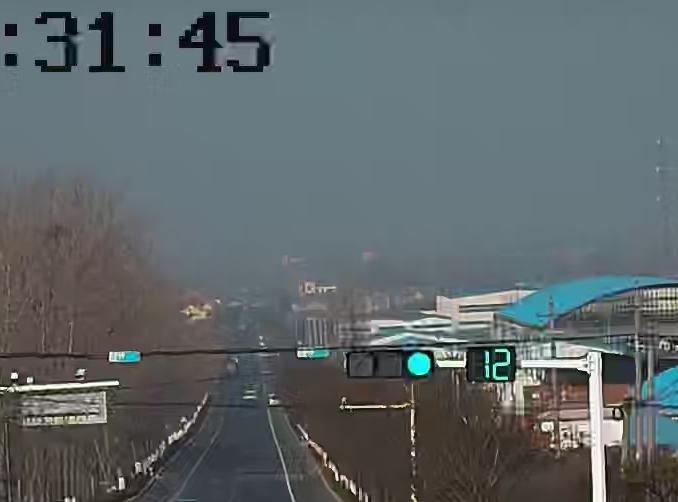green: (403, 351, 435, 377)
greentime: (475, 348, 513, 383)
